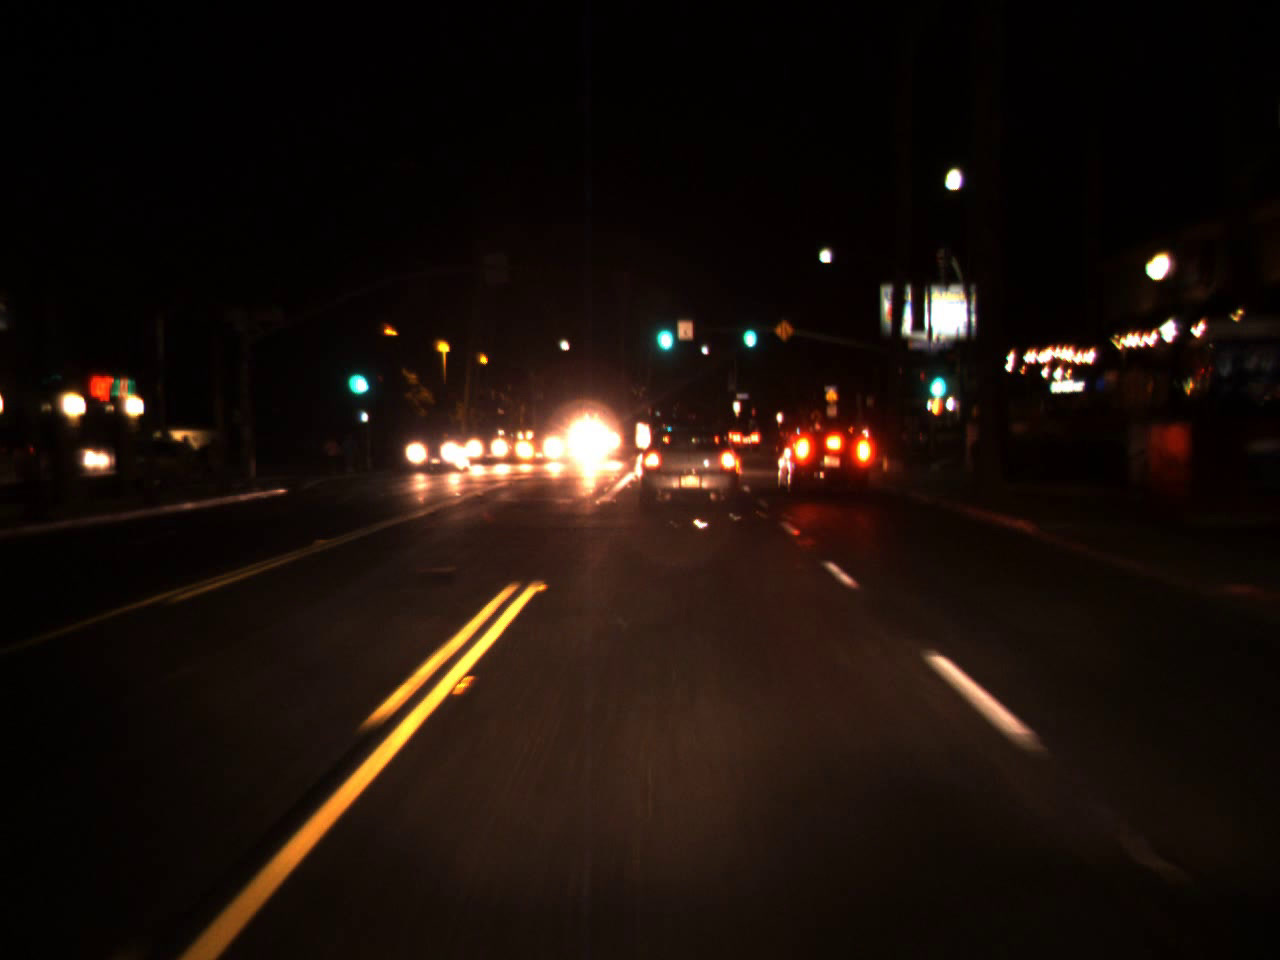go: (342, 348, 369, 402), (650, 304, 677, 358), (926, 359, 947, 401), (738, 313, 759, 349)
